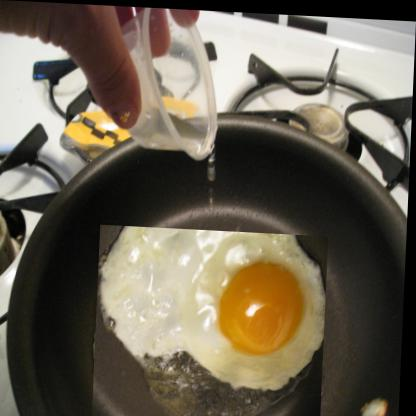egg: (94, 222, 332, 415)
